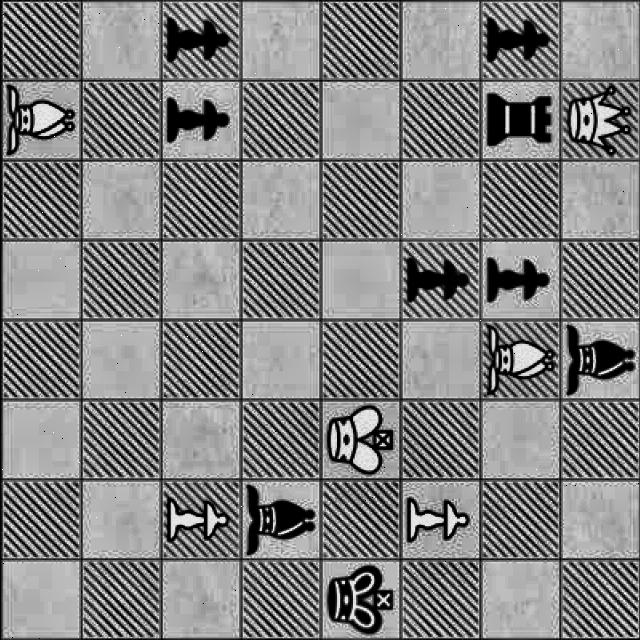black bishop: (555, 321, 640, 401), (244, 483, 322, 557)
black king: (323, 563, 400, 636)
black pawn: (158, 83, 236, 158), (403, 244, 477, 318), (482, 242, 558, 314), (163, 3, 239, 74), (483, 10, 556, 68)
black rook: (482, 86, 556, 158)
white bishop: (1, 84, 78, 156), (482, 326, 556, 396)
white king: (320, 400, 394, 478)
white pawn: (162, 481, 241, 555), (400, 482, 472, 552)
white queen: (559, 84, 640, 158), (564, 84, 637, 156)
